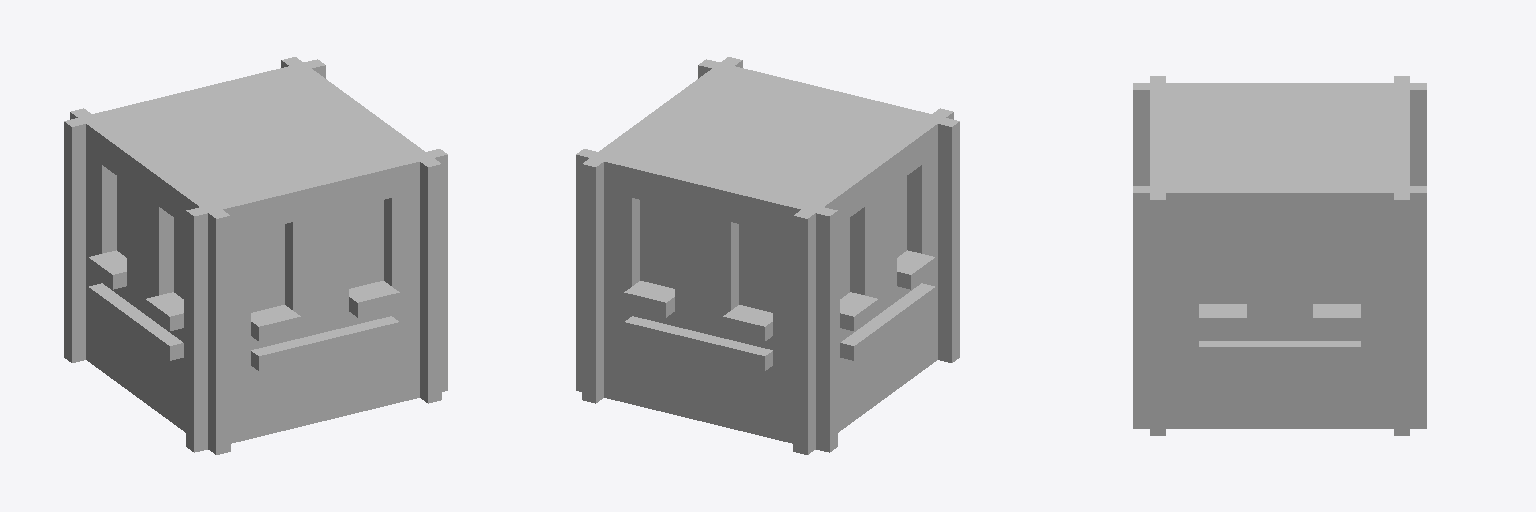
Rendered from Simple layer.obj.
3 renders of one model, left to right at view 1: azimuth 30°, elevation 25°; view 2: azimuth 150°, elevation 25°; view 3: azimuth 270°, elevation 25°, orthographic.
Visible parts, largest first — view 1: Simple layer; view 2: Simple layer; view 3: Simple layer.
Boxes of the visible parts, box(x1,y1,x2,y2) form: Simple layer: box(64, 57, 447, 454); Simple layer: box(576, 57, 959, 454); Simple layer: box(1133, 76, 1426, 435).
Size of the model in its own units: 1.12 by 1 by 1.12.